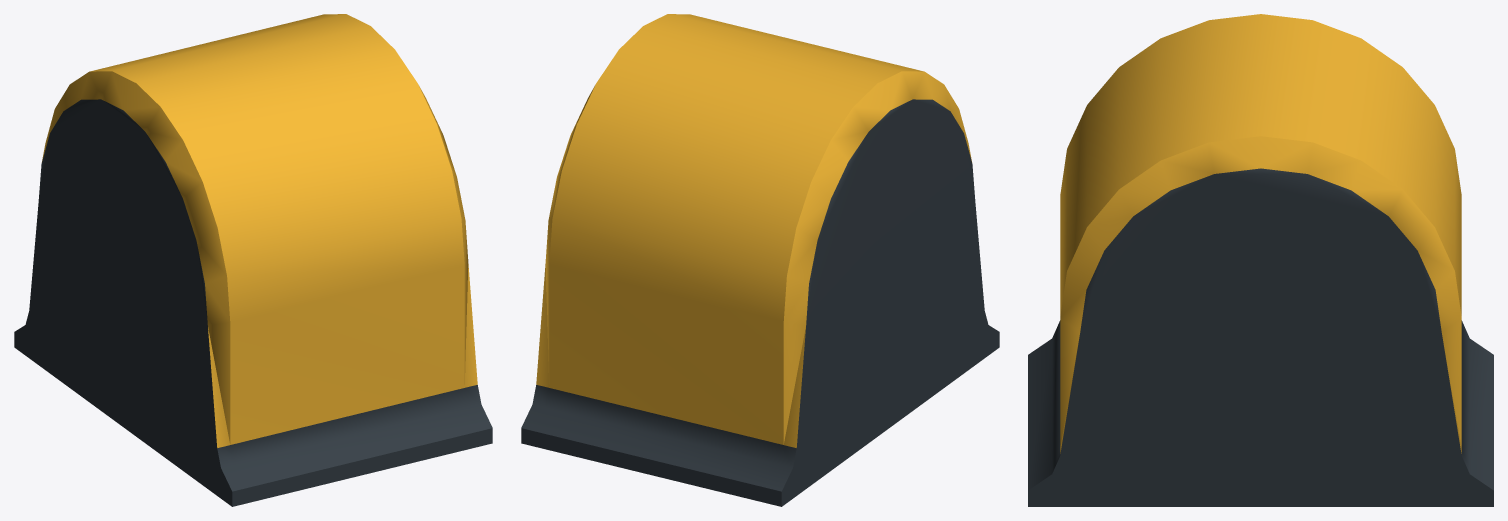
File: SpeedBumpMid.fbx
3 renders of one model, left to right at view 1: azimuth 30°, elevation 25°; view 2: azimuth 150°, elevation 25°; view 3: azimuth 270°, elevation 25°, orthographic. The views are drawn at different scales.
Visible parts, largest first — view 1: SpeedBumpMid_LOD0; view 2: SpeedBumpMid_LOD0; view 3: SpeedBumpMid_LOD0.
Boxes of the visible parts, x1,y1,x2,y2 form: SpeedBumpMid_LOD0: (14,14,492,506); SpeedBumpMid_LOD0: (521,14,999,506); SpeedBumpMid_LOD0: (1028,14,1493,506).
Size of what is drawn, in the model's own units: 0.8 by 1 by 1.16.
